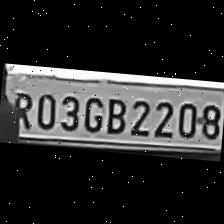0: (173, 96, 200, 138), (32, 89, 58, 129)
2: (126, 94, 152, 137), (148, 95, 174, 138)
3: (56, 88, 82, 130)
8: (196, 98, 222, 138)
B: (102, 92, 128, 134)
G: (79, 92, 105, 132)
R: (10, 88, 34, 130)
